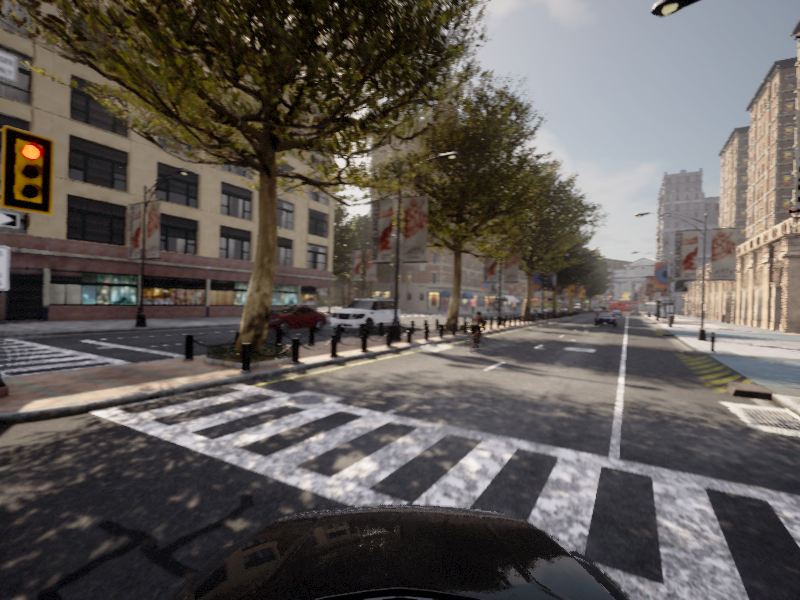vehicle: (325, 296, 404, 336), (249, 305, 332, 334), (462, 311, 490, 353), (593, 312, 617, 327)
